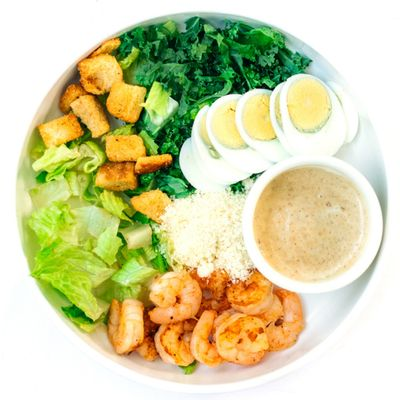sushi: (5, 1, 398, 397), (241, 154, 383, 295)
